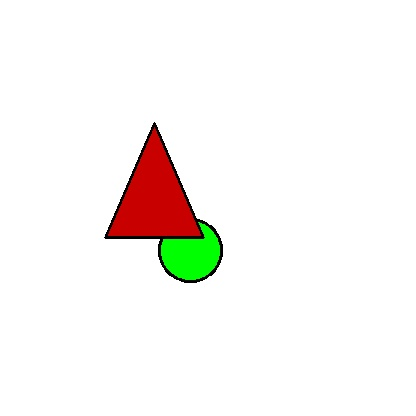circle: (159, 208, 221, 293)
triangle: (105, 123, 203, 237)
